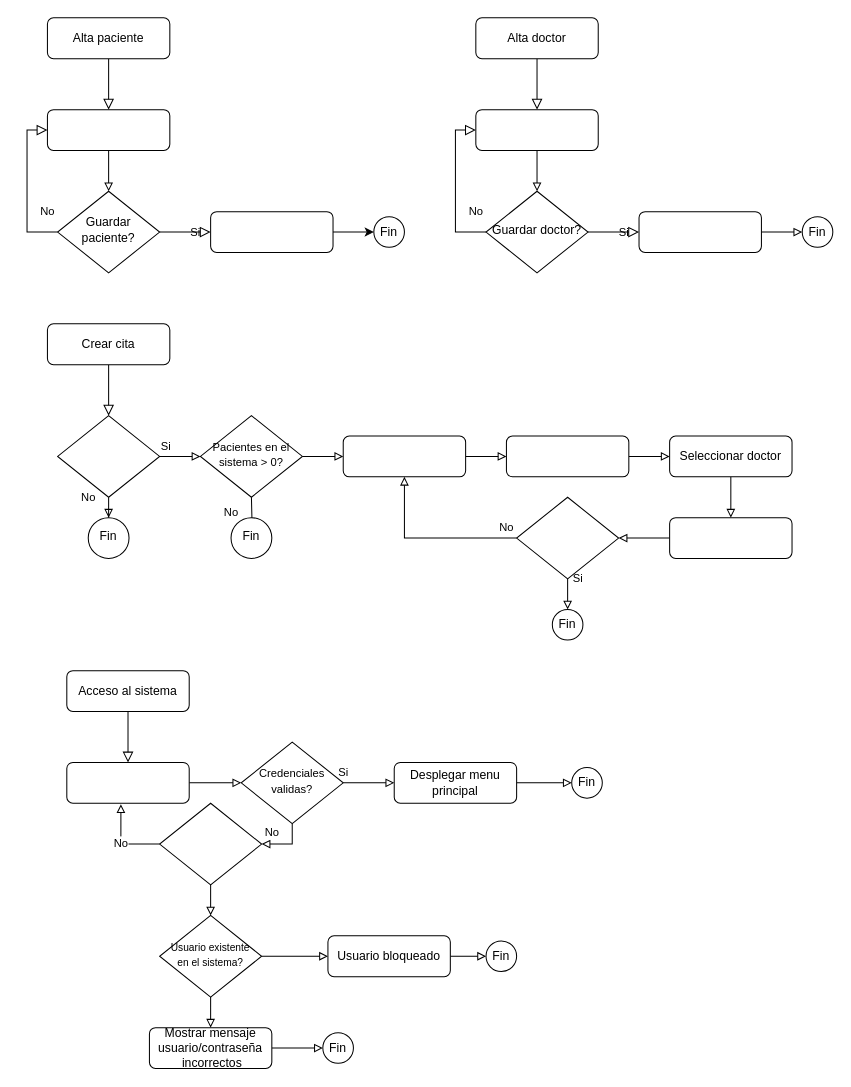
The diagram is 851 pixels wide and 1087 high, and some of its shapes have lost their labels. Here are the shapes that lost their labels. From the top down, the centre of each, then its label:
point (108, 129): Registrar datos paciente
point (536, 129): Registrar datos doctor
point (271, 231): Guardar paciente en base de datos
point (699, 231): Guardar doctor en base de datos
point (108, 456): Doctores en el sistema > 0?
point (404, 456): Capturar descripción de cita
point (567, 456): Capturar hora y fecha de cita
point (567, 537): Guardar cita?
point (730, 537): Seleccionar paciente
point (127, 782): Captura usuario y contraseña
point (210, 843): Intentos <= 3?
